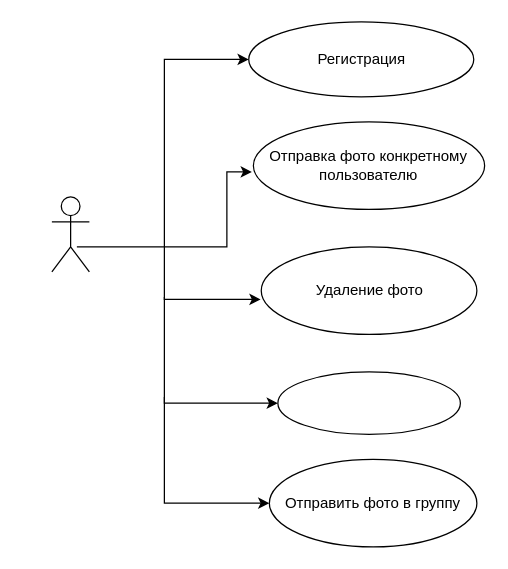
Some shapes in this 508 by 569 pixel diagram are drawn without their labels. The centre of each missing label's shape, as x and y in pixels:
Пользователь: the point at 70,234
Создание группы: the point at 368,402
